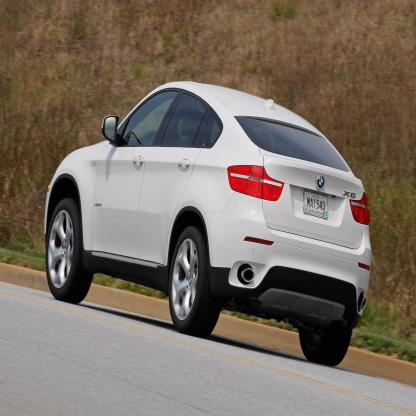Vehicle: (42, 80, 372, 372)
